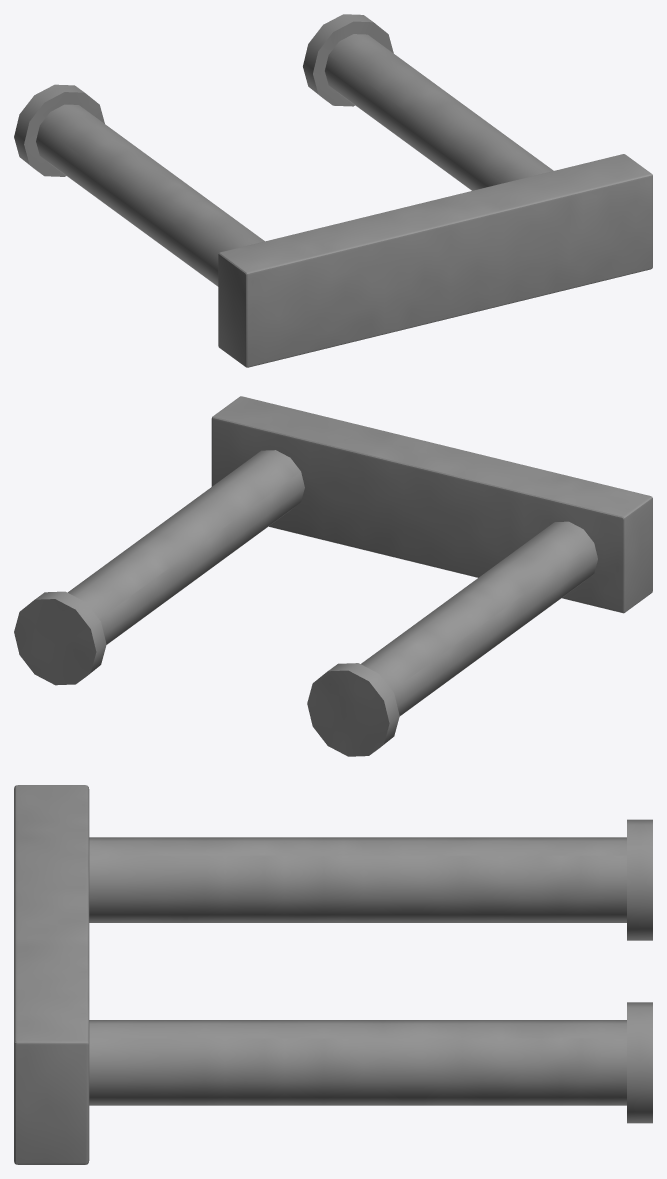
File: SM_止水夹子A_001.fbx
The picture shows the model from 3 angles, top to bottom: view 1: azimuth 30°, elevation 25°; view 2: azimuth 150°, elevation 25°; view 3: azimuth 270°, elevation 25°; orthographic projection. The views are drawn at different scales.
Parts seen in each view (by area): view 1: SM_止水夹子A_001; view 2: SM_止水夹子A_001; view 3: SM_止水夹子A_001.
Boxes of the visible parts, x1,y1,x2,y2 form: SM_止水夹子A_001: (14, 14, 652, 367); SM_止水夹子A_001: (14, 396, 652, 756); SM_止水夹子A_001: (14, 785, 652, 1164).
Size of the model in its own units: 0.0602 by 0.0135 by 0.0631.
